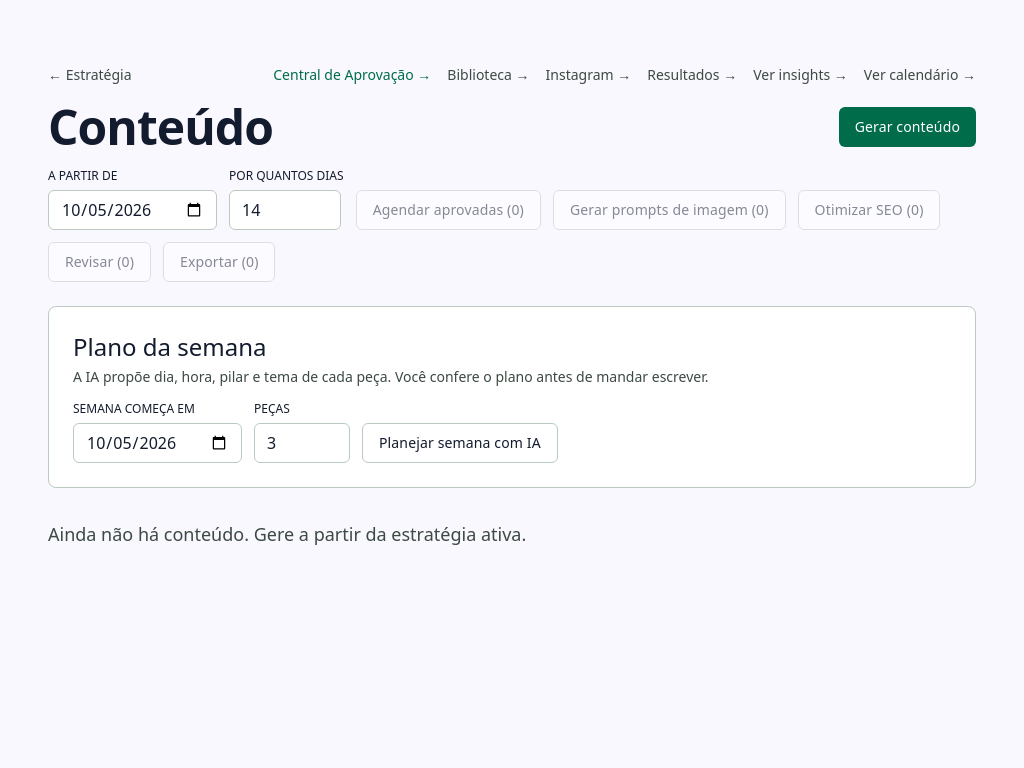
Test case: 422 sem estratégia ativa mostra a mensagem e não inicia polling
Click the button "Gerar conteúdo". click: point(907, 127)
box: [839, 107, 976, 147]
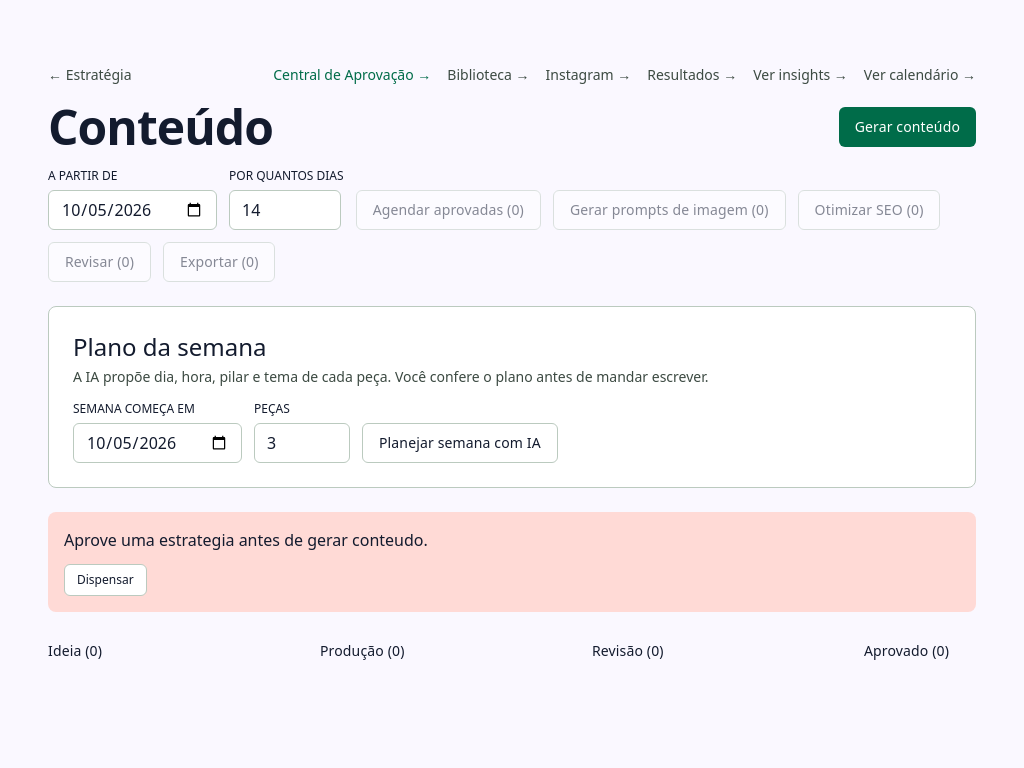
Check: the text "Aprove uma estrategia antes de gerar conteudo." is shown, box [64, 529, 428, 551]
